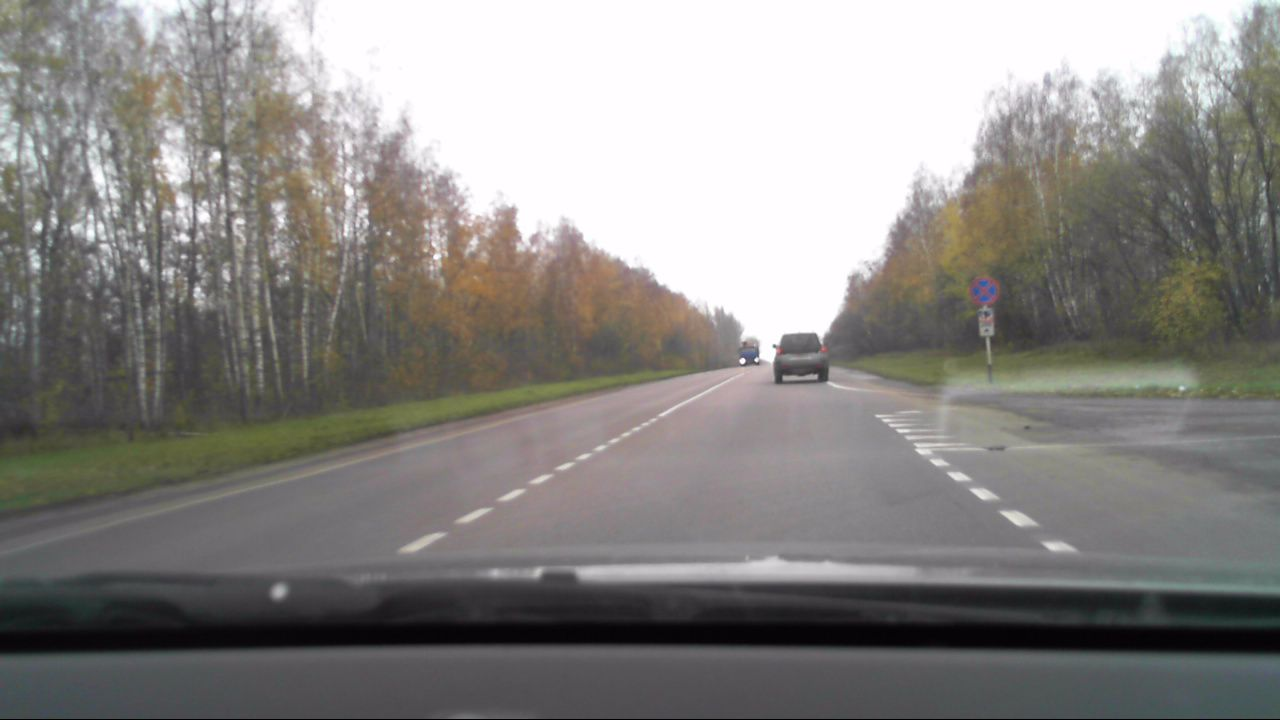No Parking: (969, 275, 999, 306)
